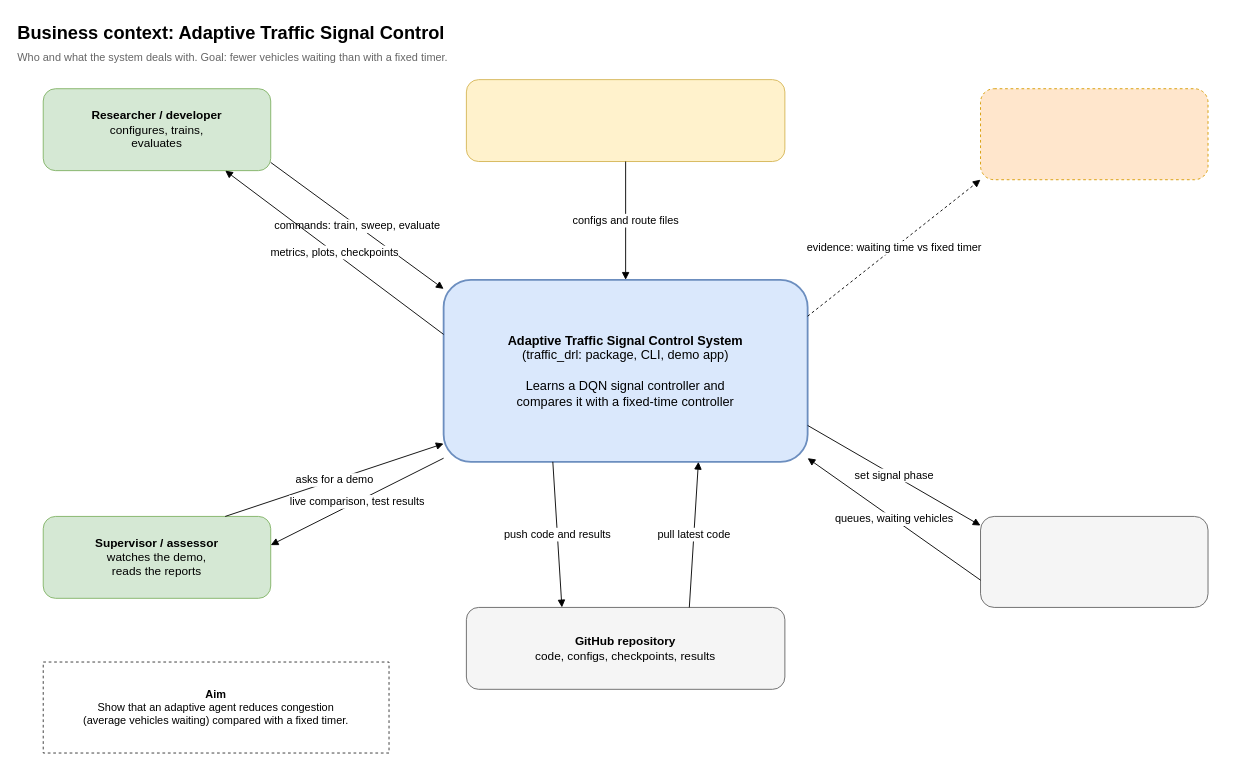
Image size: 1250x769. Some labels were removed from this diagram. Here are the shapes that lost their labels. From the top down, the box of each, then its label:
(465, 79, 785, 162): Intersection and scenario definitions YAML configs, network and route XML
(980, 88, 1208, 180): Traffic agencies and smart-city planners (intended beneficiaries)
(980, 516, 1208, 607): SUMO traffic simulator (external, via TraCI)
